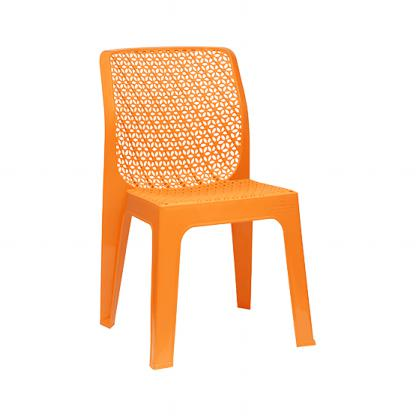chair: (89, 41, 322, 376)
